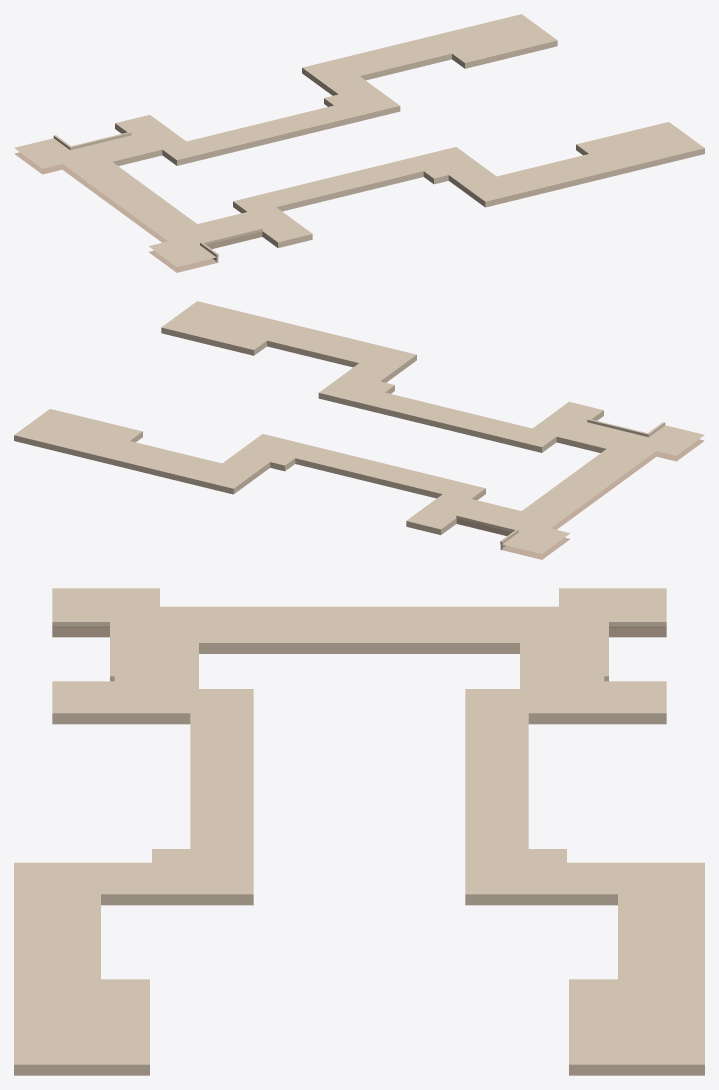
File: BC_Inside2FGround.fbx
3 renders of one model, top to bottom at view 1: azimuth 30°, elevation 25°; view 2: azimuth 150°, elevation 25°; view 3: azimuth 270°, elevation 25°, orthographic. The views are drawn at different scales.
Parts seen in each view (by area): view 1: BC_Inside2FGround; view 2: BC_Inside2FGround; view 3: BC_Inside2FGround.
Part boxes in pixels (x1,y1,x2,y2): BC_Inside2FGround: (14, 14, 704, 272); BC_Inside2FGround: (14, 301, 704, 559); BC_Inside2FGround: (14, 588, 704, 1075).
Bounding box in the file's own units: 9628 × 150 × 5900.
